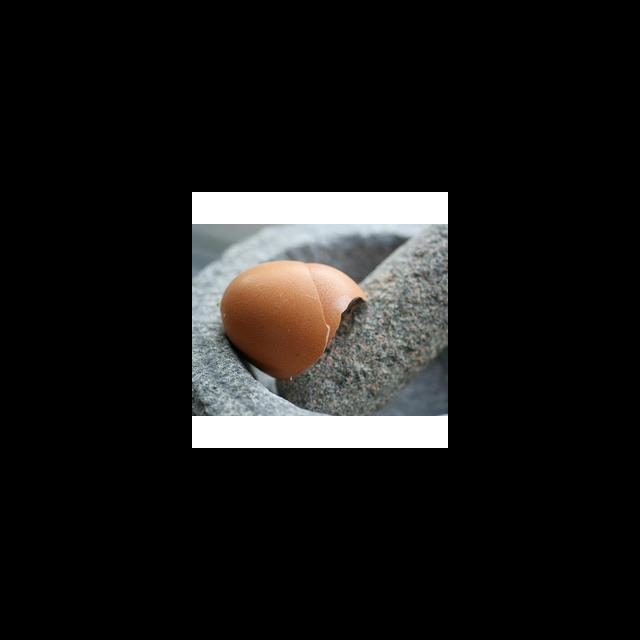food_waste: (220, 245, 391, 386)
